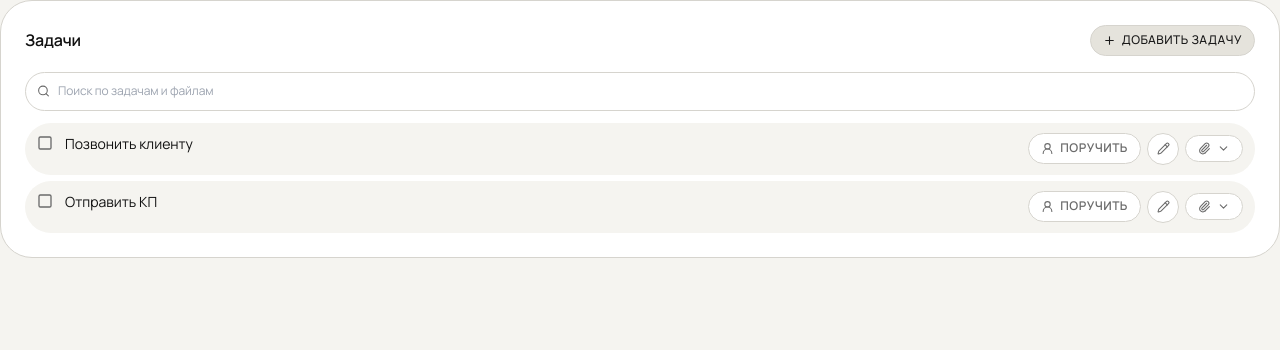
Test: TASK-ROW-01 — ошибка делегирования одной строки не должна протекать в другую › после ошибки у задачи 1 селектор задачи 2 показывает своего исполнителя, без чужой ошибки
Click the button titled "Поручить задачу сотруднику" in the row of "Позвонить клиенту": (1085,149) [1028,133,1141,164]
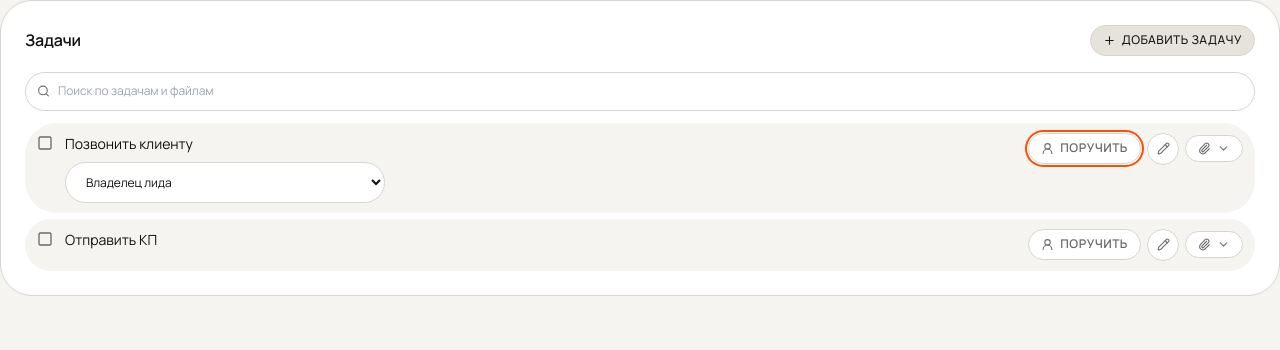
Select "Кирилл · Менеджер" in the dropdown named "Кому поручить задачу": (225,182) [65,162,385,203]
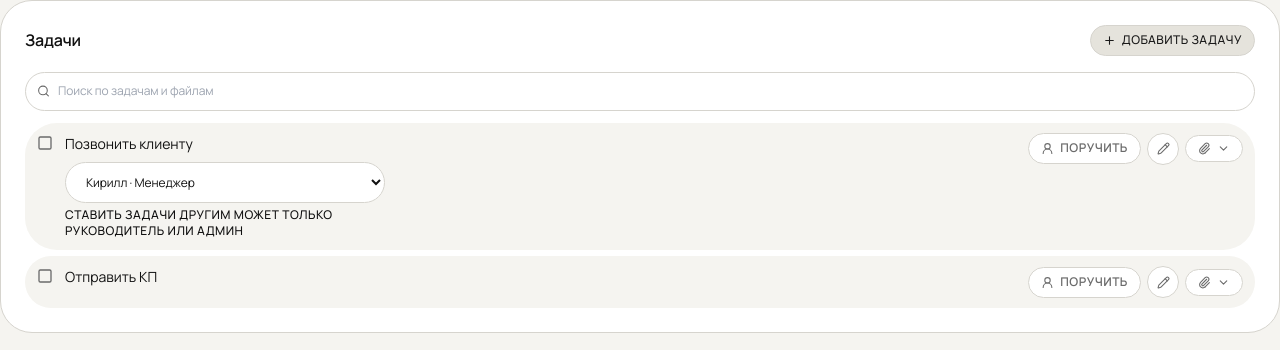
Result: the message "Ставить задачи другим может только руководитель или админ" is shown at [65,206,333,239]
Note: Открываем делегирование у задачи 2 — селектор задачи 1 закрывается.
Click the button titled "Поручить задачу сотруднику" in the row of "Отправить КП": (1085,282) [1028,267,1141,298]
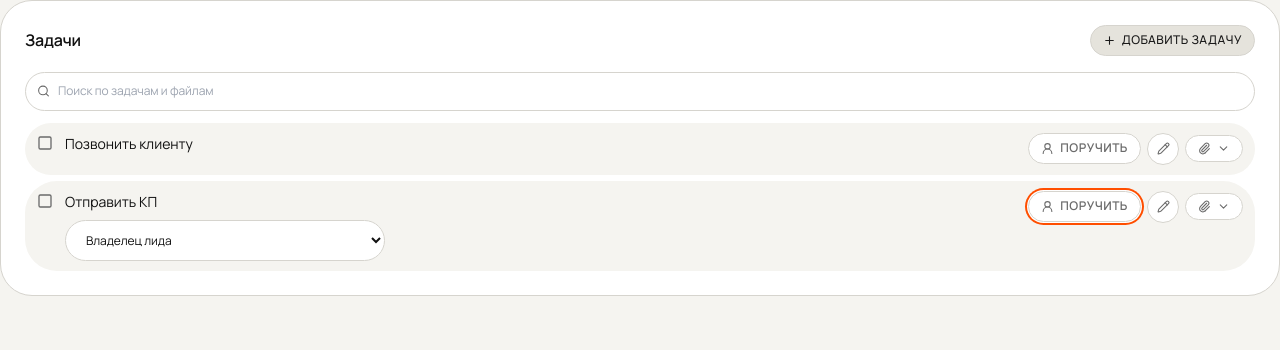
Result: the dropdown named "Кому поручить задачу" shows "Владелец лида" at [65,220,385,261]
Result: the message "Ставить задачи другим может только руководитель или админ" is gone
